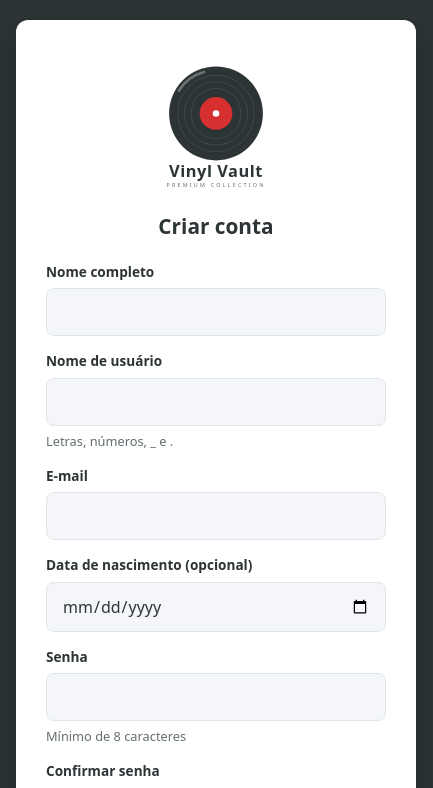
Register › does not submit when the passwords differ
Type "Eva Teste" into the field labelled "Nome completo".
click(216, 312); type("Eva Teste")  # box [46, 288, 386, 336]
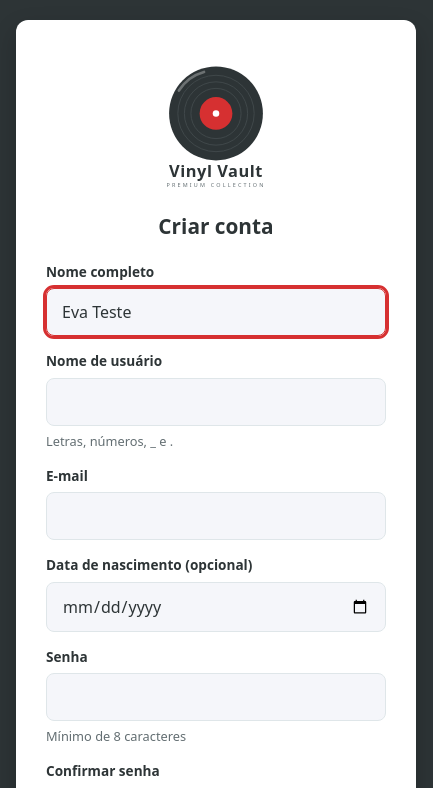
Type "eva.teste" into the field labelled "Nome de usuário".
click(216, 402); type("eva.teste")  # box [46, 378, 386, 426]
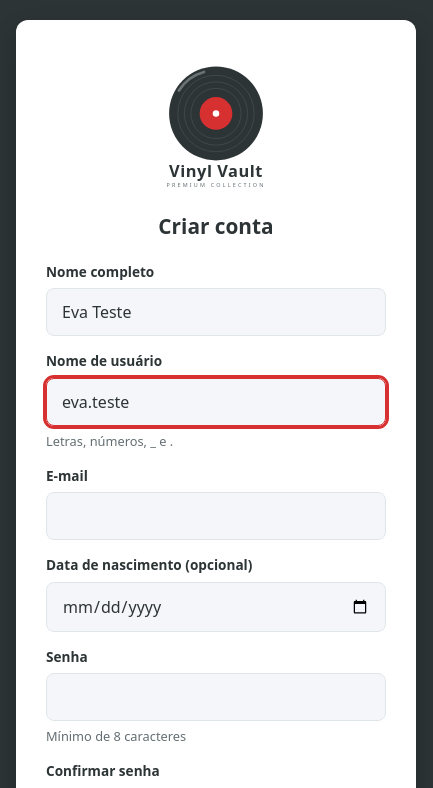
Type "eva@example.com" into the field labelled "E-mail".
click(216, 516); type("eva@example.com")  # box [46, 492, 386, 540]
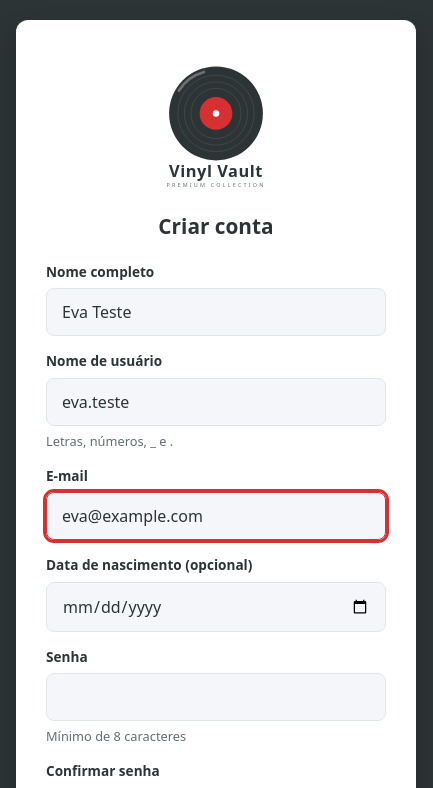
Type "senha-forte-123" into the password field labelled "Senha".
click(216, 697); type("senha-forte-123")  # box [46, 673, 386, 721]
(page scrolled)
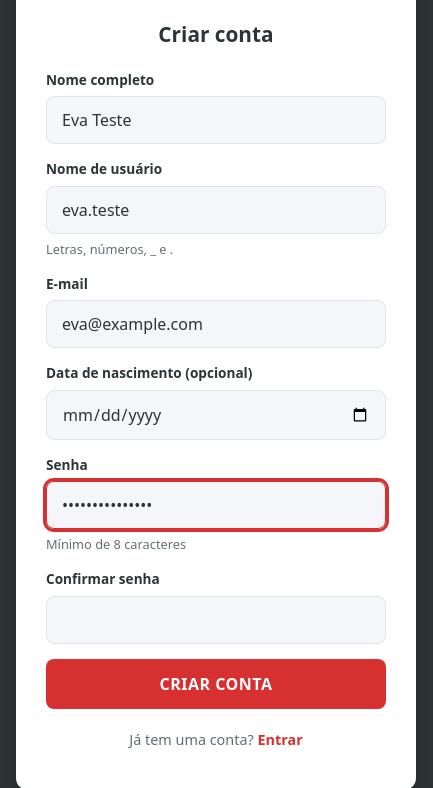
Type "outra-coisa-123" into the password field labelled "Confirmar senha".
click(216, 620); type("outra-coisa-123")  # box [46, 596, 386, 644]
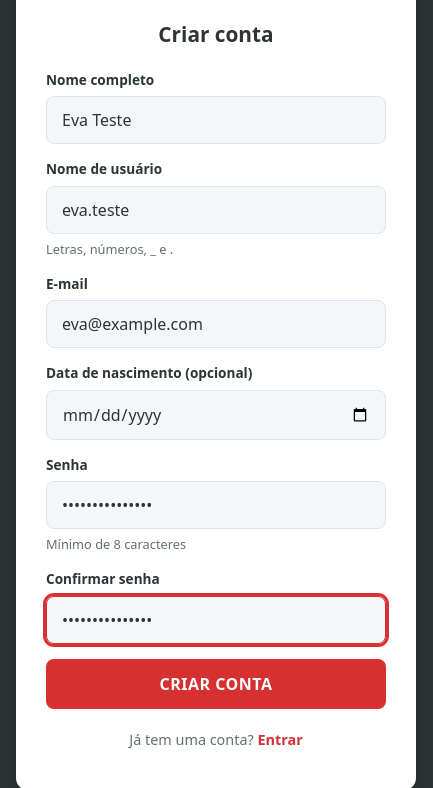
Click the button "Criar conta".
click(216, 684)  # box [46, 659, 386, 709]
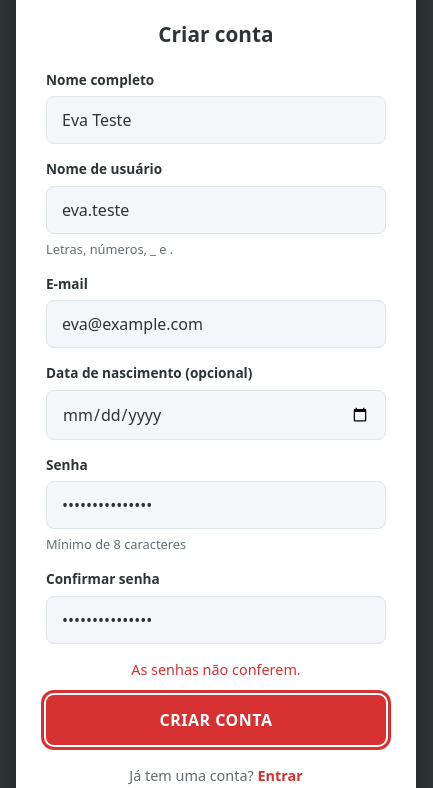
Now the message reads "As senhas não conferem.", box [131, 660, 301, 679]
